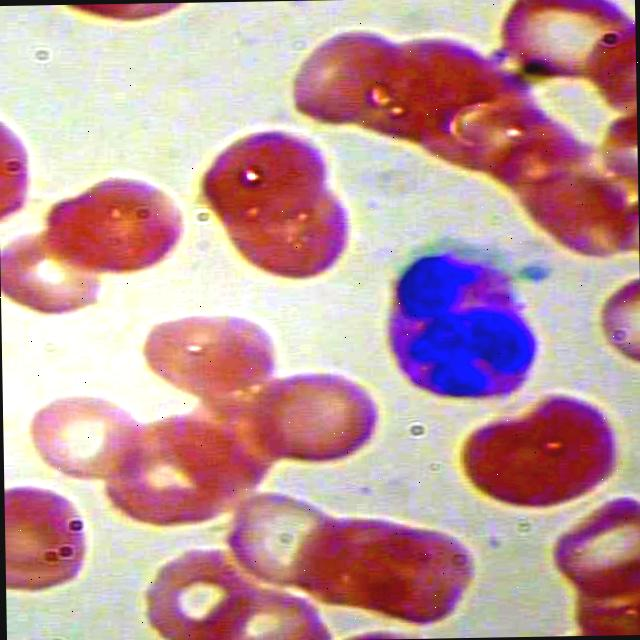RBC: (446, 386, 624, 515), (40, 169, 192, 281), (136, 292, 288, 404), (21, 380, 152, 486), (350, 522, 476, 630), (252, 369, 384, 468), (200, 128, 332, 227), (222, 184, 354, 282), (282, 30, 414, 128), (134, 544, 266, 640), (222, 484, 338, 590), (6, 476, 102, 596), (547, 495, 640, 604), (0, 233, 112, 323)
WBC: (364, 245, 543, 415)
